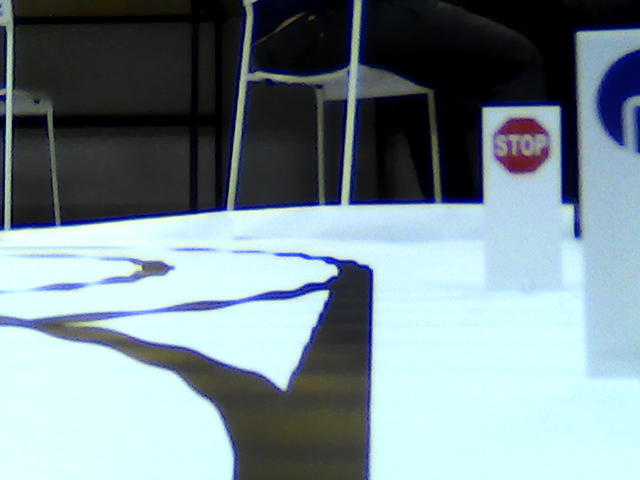Stop: (491, 116, 550, 172)
